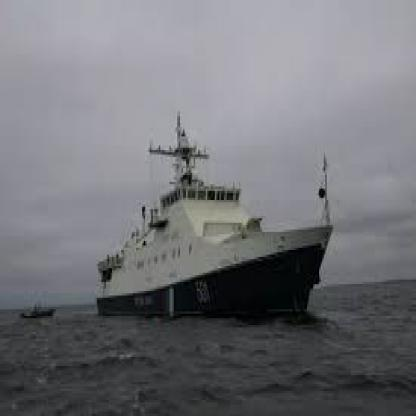fish-b: (88, 104, 339, 332)
